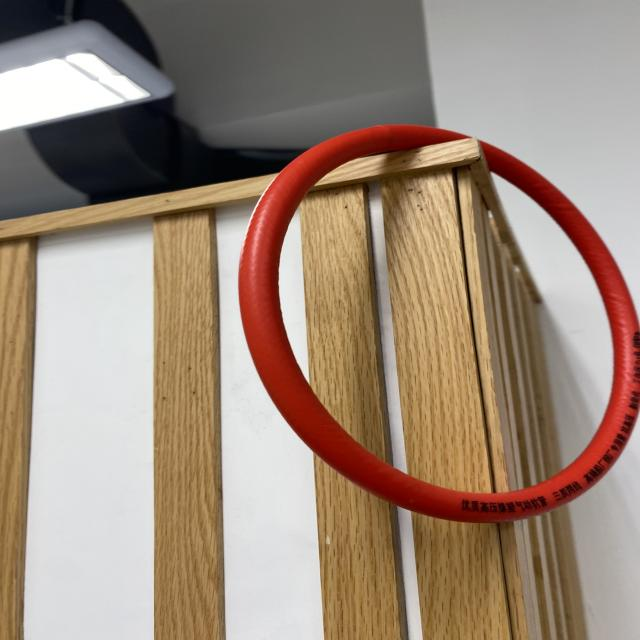daire: (232, 117, 640, 532)
